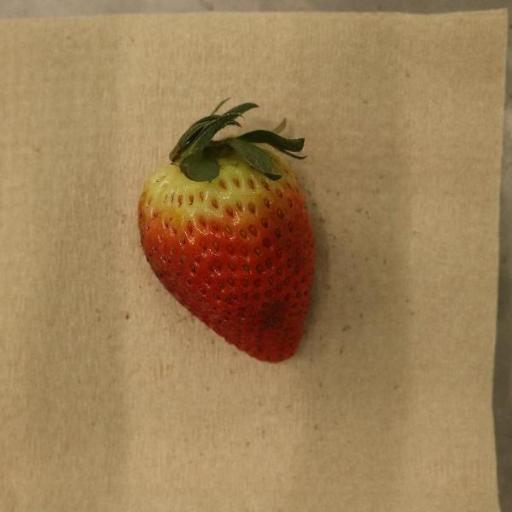Strawberry: (138, 103, 316, 365)
